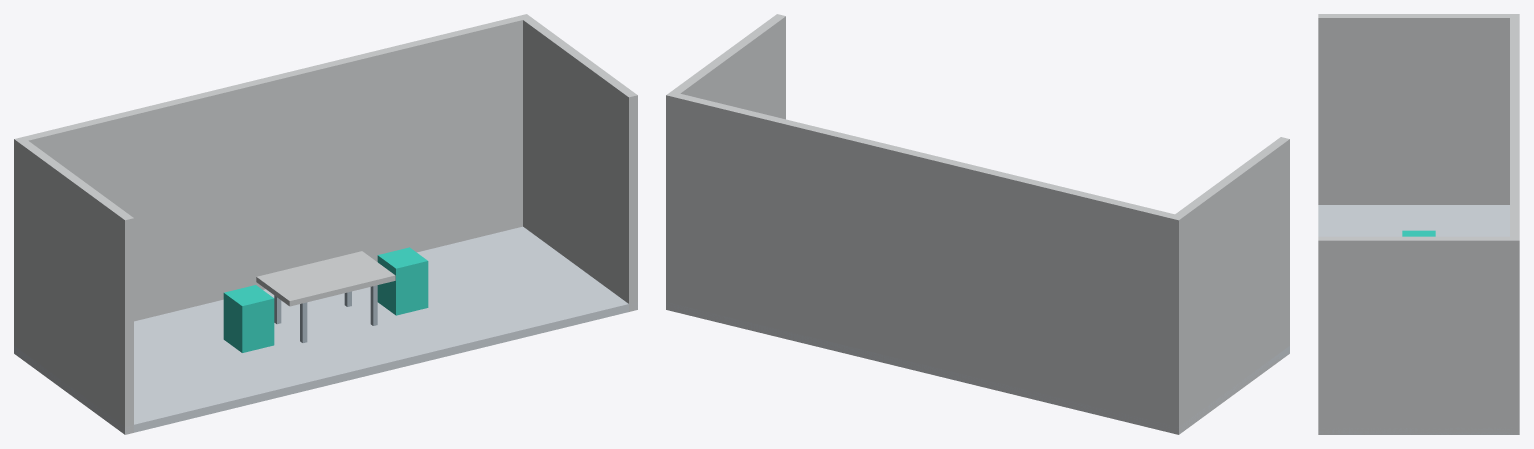
3 renders of one model, left to right at view 1: azimuth 30°, elevation 25°; view 2: azimuth 150°, elevation 25°; view 3: azimuth 270°, elevation 25°, orthographic. The views are drawn at different scales.
Parts seen in each view (by area): view 1: Exhibition Booth Concept; view 2: Exhibition Booth Concept; view 3: Exhibition Booth Concept.
Part boxes in pixels (left/top/right/bottom): Exhibition Booth Concept: left=14, top=14, right=637, bottom=434; Exhibition Booth Concept: left=666, top=14, right=1289, bottom=434; Exhibition Booth Concept: left=1318, top=14, right=1519, bottom=434.
Size of the model in its own units: 8 by 3.2 by 3.
